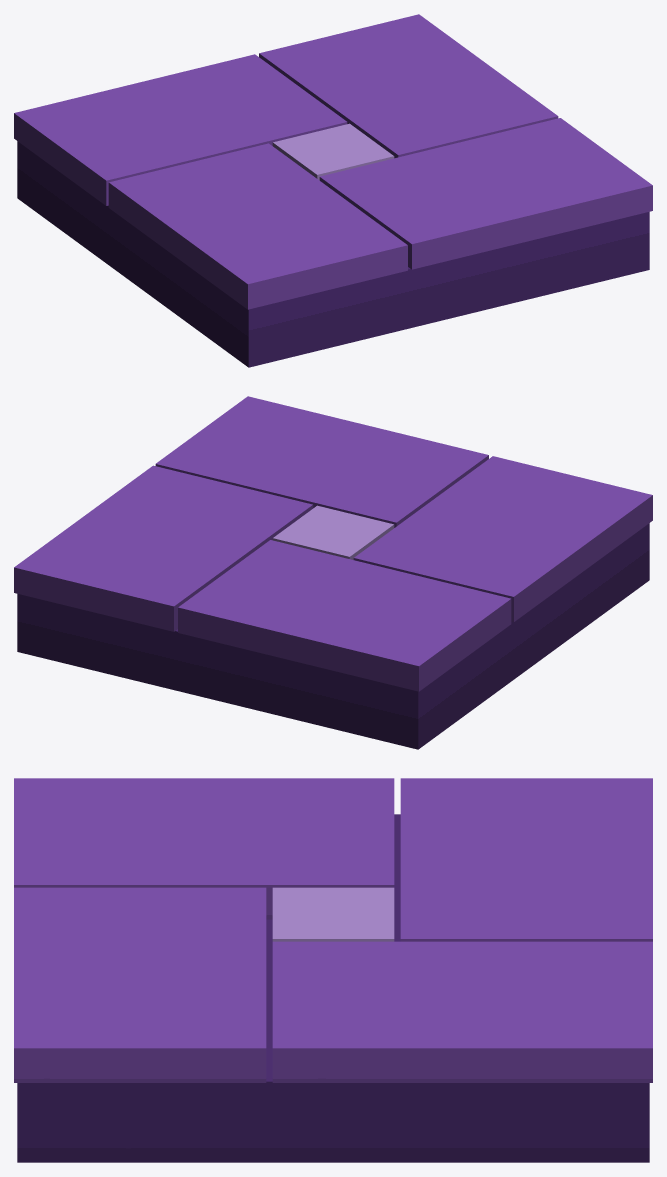
The model's file is foundation_crystal.glb.
3 renders of one model, top to bottom at view 1: azimuth 30°, elevation 25°; view 2: azimuth 150°, elevation 25°; view 3: azimuth 270°, elevation 25°, orthographic. The views are drawn at different scales.
Size of the model in its own units: 1 by 0.2 by 1.
Materials: 1 (1 with a texture image).
